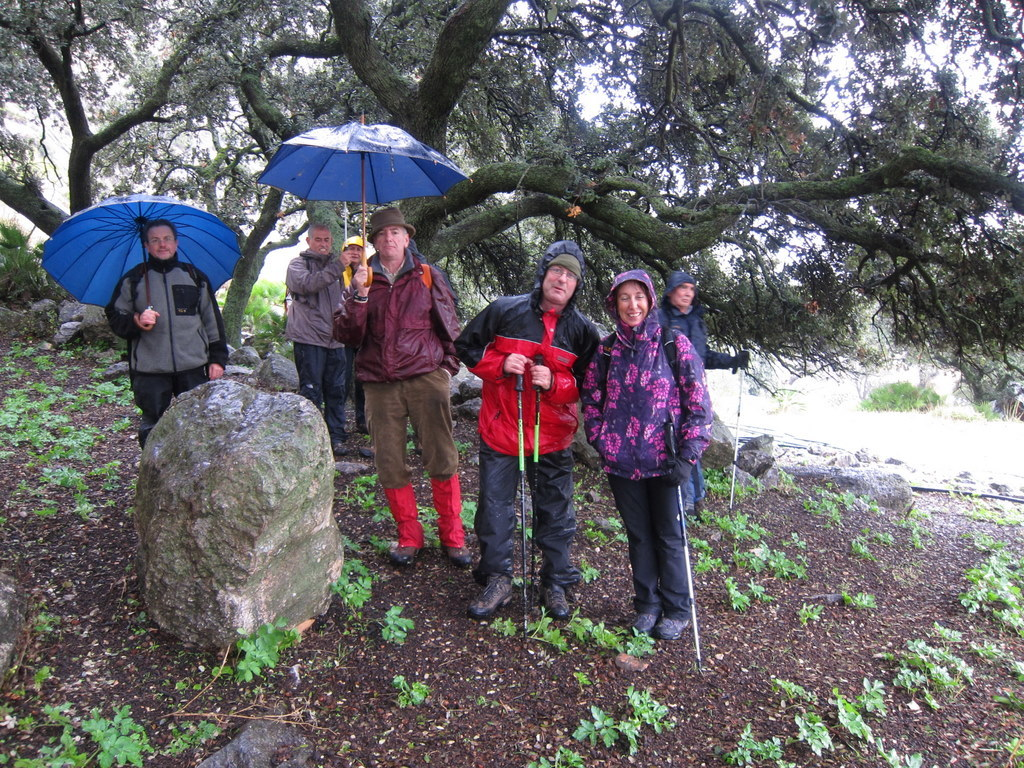Tree: (0, 0, 1022, 397)
